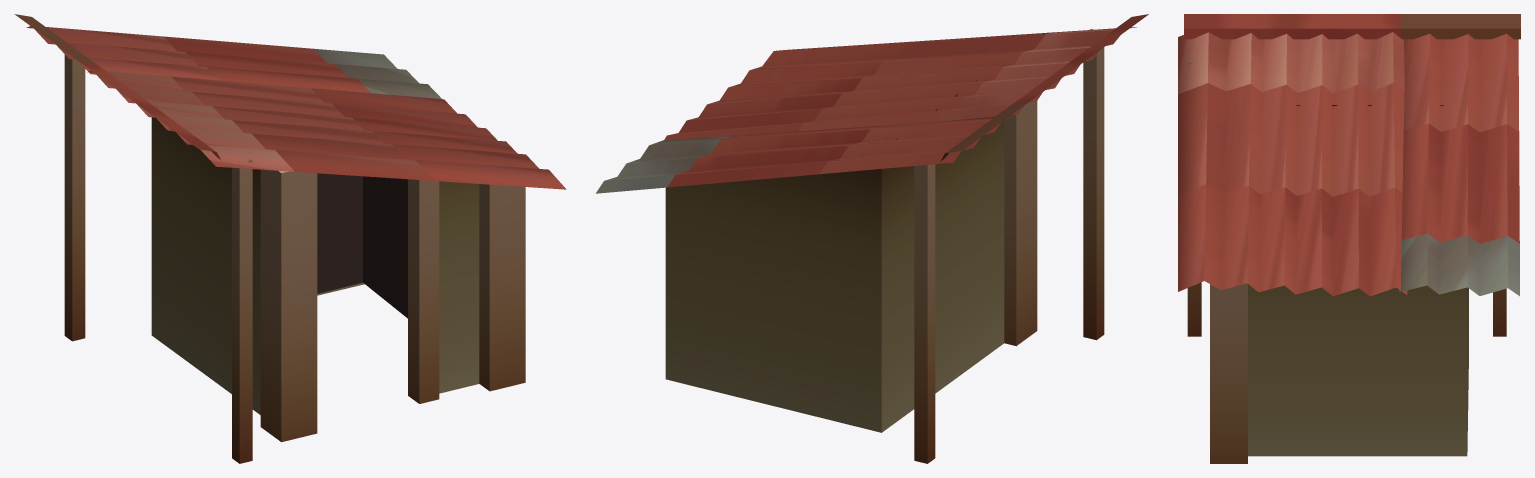
File: SM_Shed_01.fbx
3 renders of one model, left to right at view 1: azimuth 30°, elevation 25°; view 2: azimuth 150°, elevation 25°; view 3: azimuth 270°, elevation 25°, orthographic. The views are drawn at different scales.
Parts seen in each view (by area): view 1: niche; view 2: niche; view 3: niche.
Part boxes in pixels (<box>): niche: <box>14,14,566,463</box>; niche: <box>596,14,1148,463</box>; niche: <box>1178,14,1520,463</box>.
Size of the model in its own units: 44.34 by 38.81 by 39.57.
